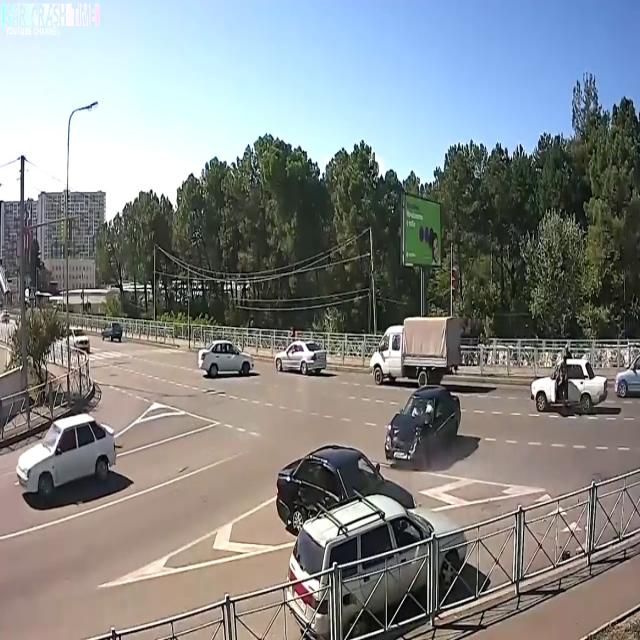Accident: (272, 376, 462, 532)
